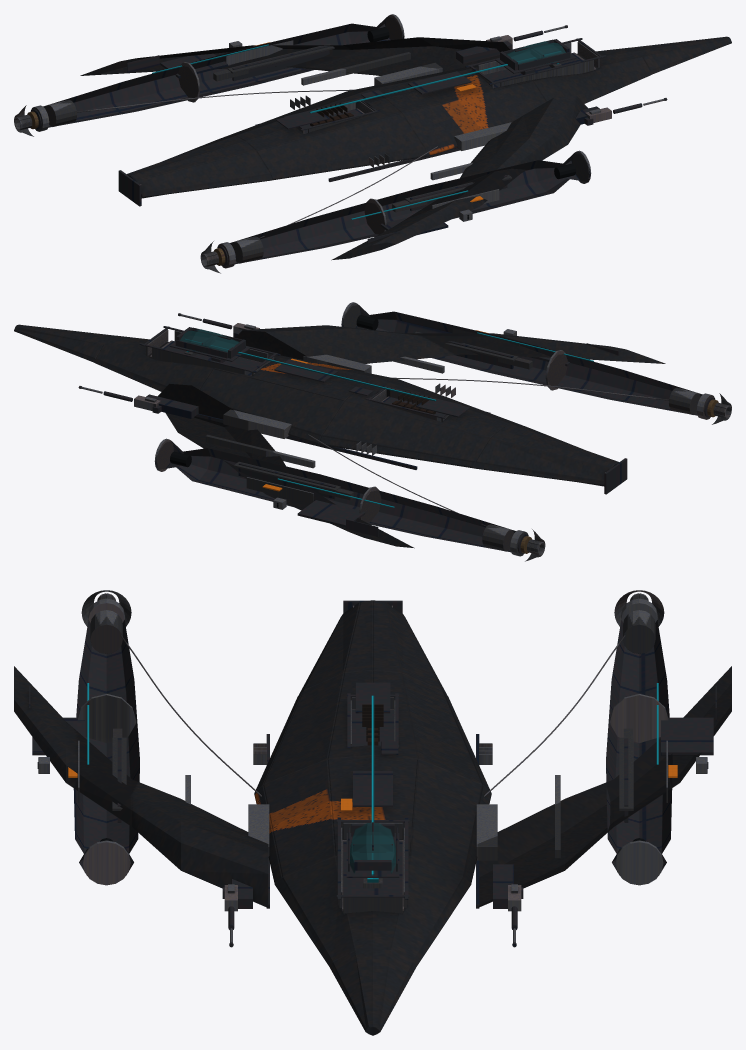
File: wasp_production_v1_lod0.glb
The picture shows the model from 3 angles, top to bottom: view 1: azimuth 30°, elevation 25°; view 2: azimuth 150°, elevation 25°; view 3: azimuth 270°, elevation 25°; orthographic projection. The views are drawn at different scales.
Visible parts, largest first — view 1: LOD0_Hull, LOD0_Armor, LOD0_Mechanical, LOD0_Accent, LOD0_Canopy, LOD0_Thruster; view 2: LOD0_Hull, LOD0_Armor, LOD0_Mechanical, LOD0_Accent, LOD0_Canopy, LOD0_Thruster; view 3: LOD0_Hull, LOD0_Armor, LOD0_Mechanical, LOD0_Canopy, LOD0_Accent.
Part boxes in pixels (bbox=[...]): LOD0_Hull: bbox=[80, 36, 731, 260]; LOD0_Armor: bbox=[31, 17, 667, 265]; LOD0_Mechanical: bbox=[14, 14, 664, 273]; LOD0_Accent: bbox=[152, 44, 560, 219]; LOD0_Canopy: bbox=[506, 41, 565, 65]; LOD0_Thruster: bbox=[367, 27, 575, 219]; LOD0_Hull: bbox=[14, 324, 665, 548]; LOD0_Armor: bbox=[78, 305, 714, 553]; LOD0_Mechanical: bbox=[81, 302, 731, 561]; LOD0_Accent: bbox=[185, 332, 593, 507]; LOD0_Canopy: bbox=[180, 329, 239, 353]; LOD0_Thruster: bbox=[170, 315, 378, 507]; LOD0_Hull: bbox=[14, 600, 731, 1035]; LOD0_Armor: bbox=[29, 600, 716, 947]; LOD0_Mechanical: bbox=[38, 590, 707, 942]; LOD0_Canopy: bbox=[350, 823, 395, 873]; LOD0_Accent: bbox=[87, 683, 658, 882].
Size of what is drawn, in the model's own units: 21.24 by 2.08 by 14.96.
Materials: 9 (9 with a texture image).
